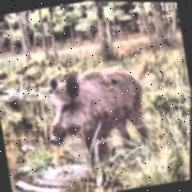boar: (32, 48, 168, 167)
